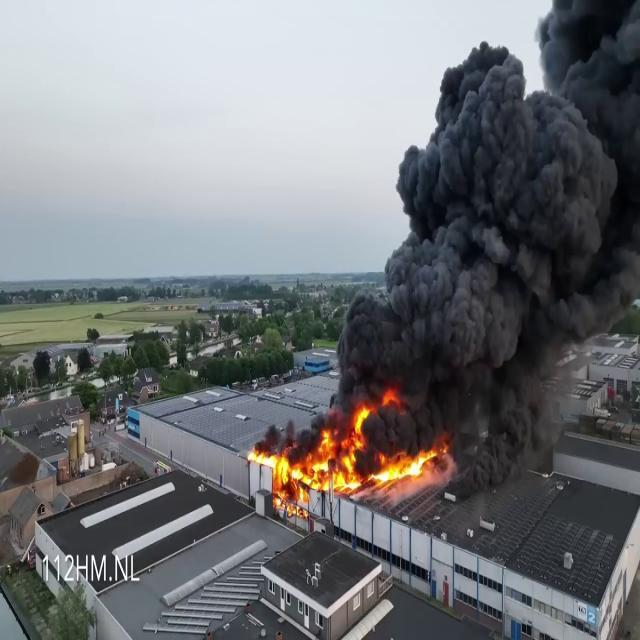Fire: (251, 398, 438, 506)
Smoke: (328, 2, 640, 442)
